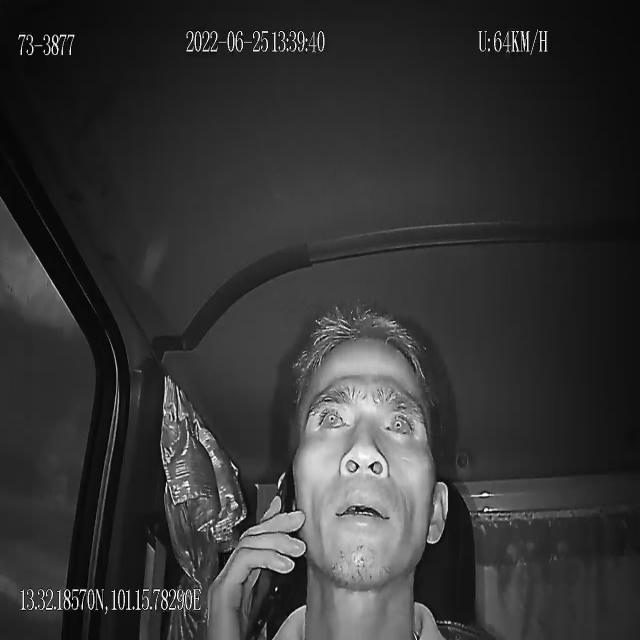phone: (242, 466, 295, 640)
